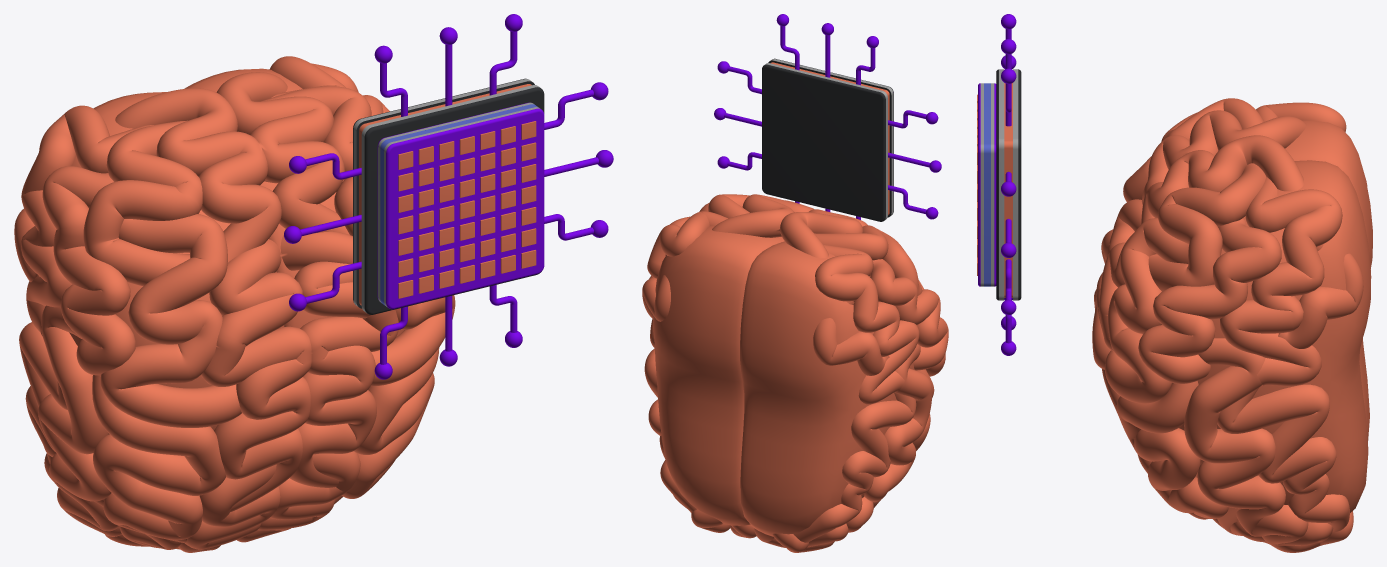
File: artificial-brain-3d-animated-icon-532453401672.glb
3 renders of one model, left to right at view 1: azimuth 30°, elevation 25°; view 2: azimuth 150°, elevation 25°; view 3: azimuth 270°, elevation 25°, orthographic. The views are drawn at different scales.
Visible parts, largest first — view 1: GP_Layer, Cube.001, Cube.002, NurbsPath, Cube; view 2: GP_Layer, Cube, NurbsPath; view 3: GP_Layer, Cube, Cube.001, NurbsPath.
Part boxes in pixels (left/top/right/bottom): GP_Layer: left=14, top=56, right=455, bottom=552; Cube.001: left=377, top=102, right=544, bottom=309; Cube.002: left=398, top=121, right=536, bottom=298; NurbsPath: left=284, top=14, right=613, bottom=379; Cube: left=353, top=78, right=544, bottom=314; GP_Layer: left=642, top=194, right=948, bottom=552; Cube: left=762, top=58, right=893, bottom=221; NurbsPath: left=714, top=14, right=941, bottom=219; GP_Layer: left=1092, top=98, right=1372, bottom=552; Cube: left=996, top=69, right=1021, bottom=300; Cube.001: left=978, top=83, right=996, bottom=286; NurbsPath: left=1001, top=14, right=1016, bottom=355.
Bounding box in the file's own units: 0.3958 × 0.5255 × 0.3626.
